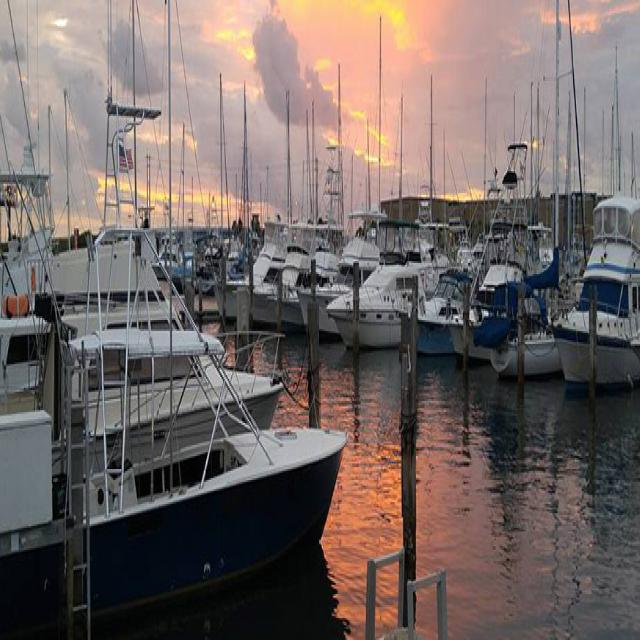houseboat: (66, 329, 360, 619), (564, 202, 640, 395), (353, 213, 446, 345), (482, 229, 561, 354), (414, 227, 473, 361)
